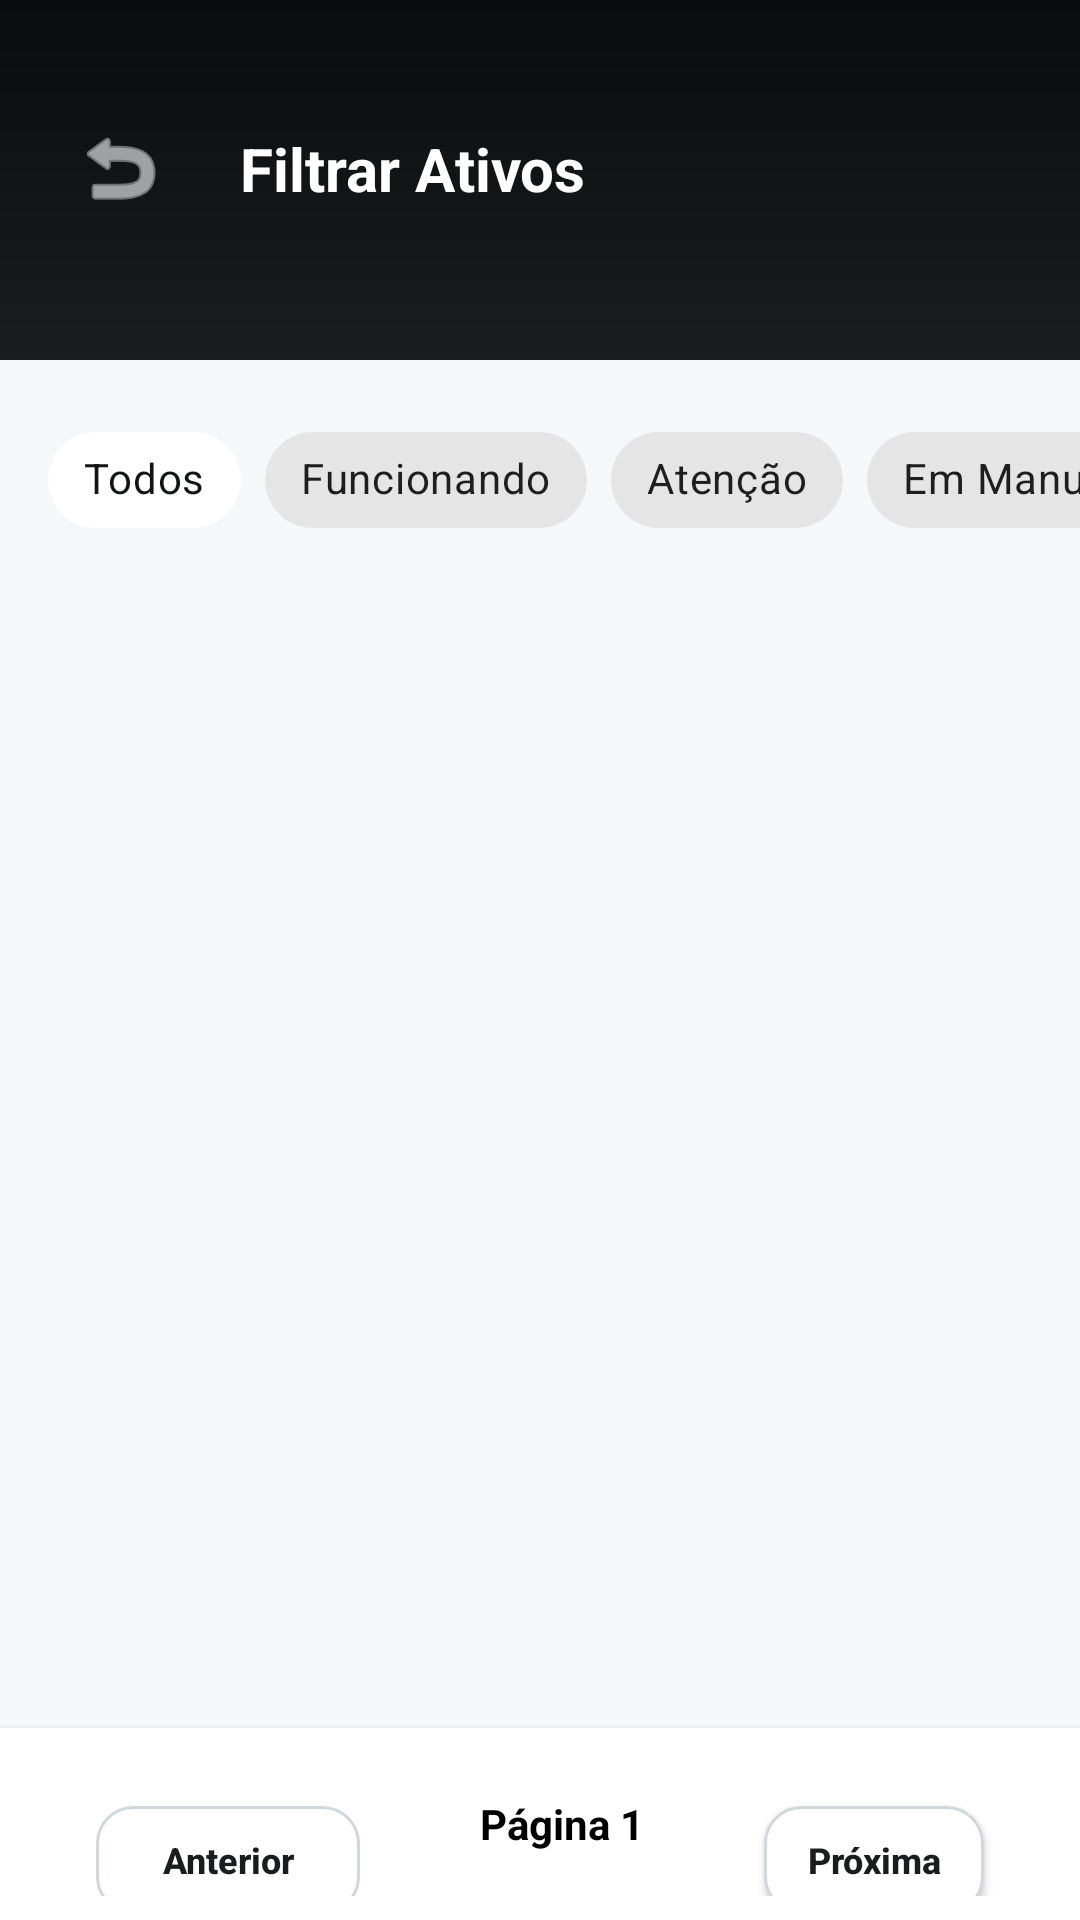

Point at icon controls on the screen. Image size 1080 × 1920, points as [x,y].
revert: [121,168]
